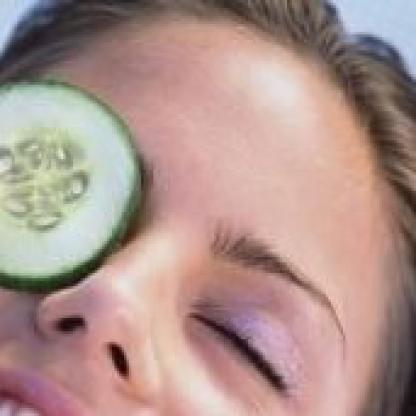wrinkle: (180, 294, 243, 318)
